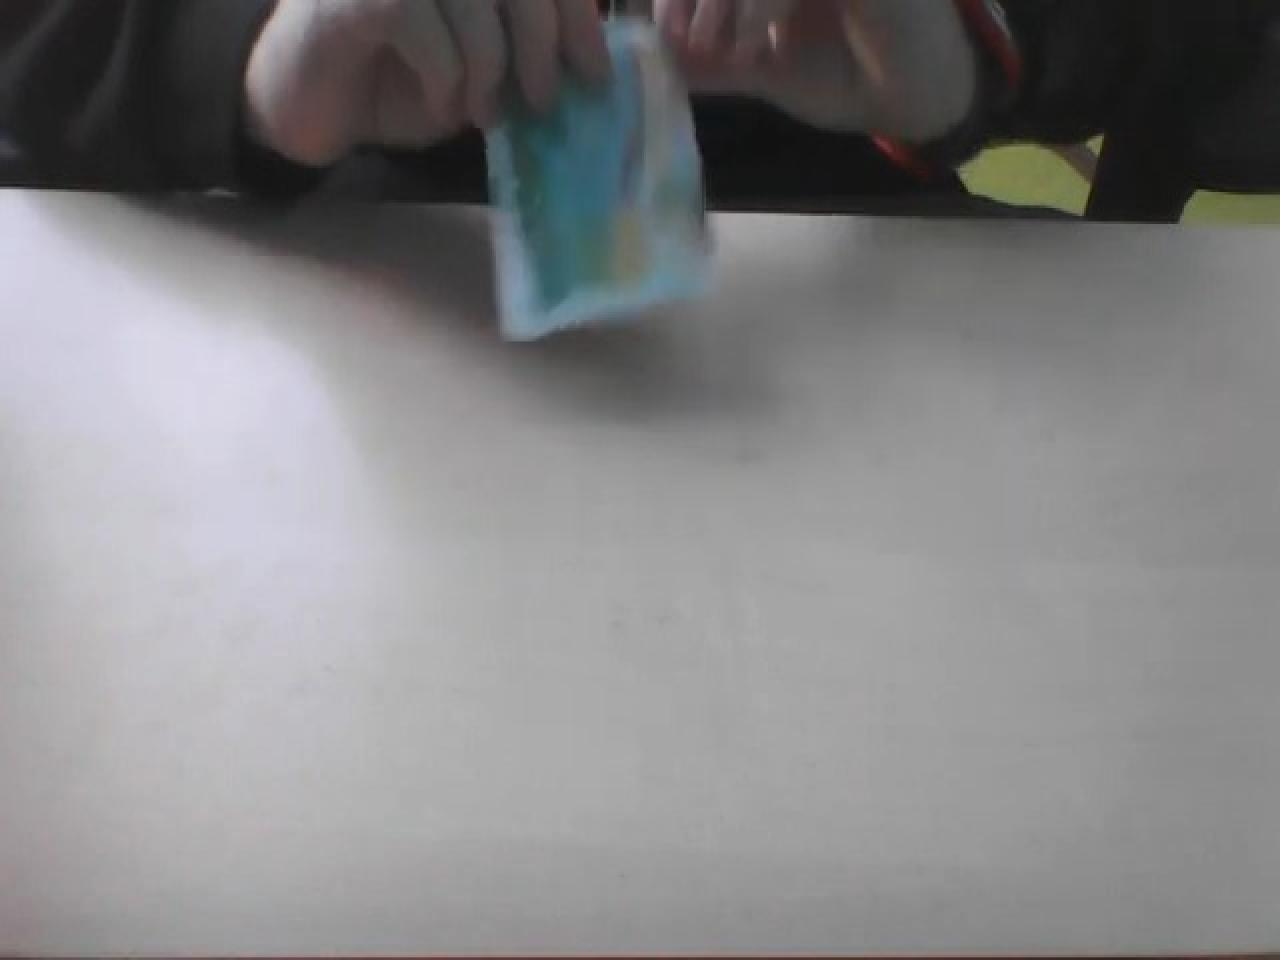100leva: (480, 11, 716, 344)
